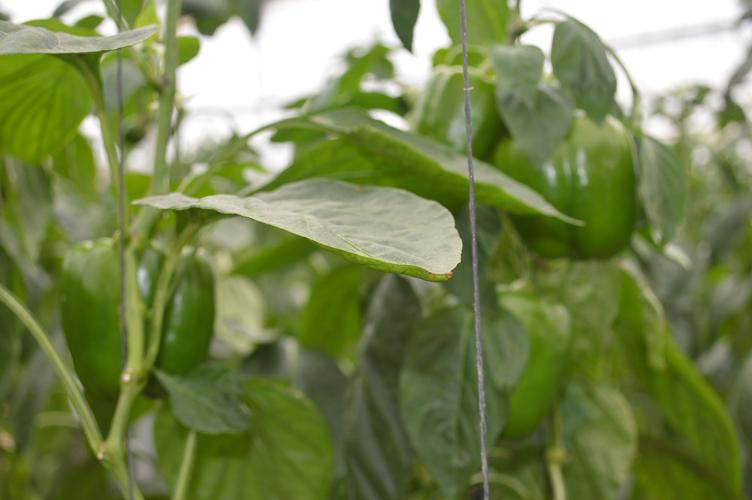BellPepper: (55, 234, 218, 399), (494, 104, 648, 267), (413, 56, 505, 169)
